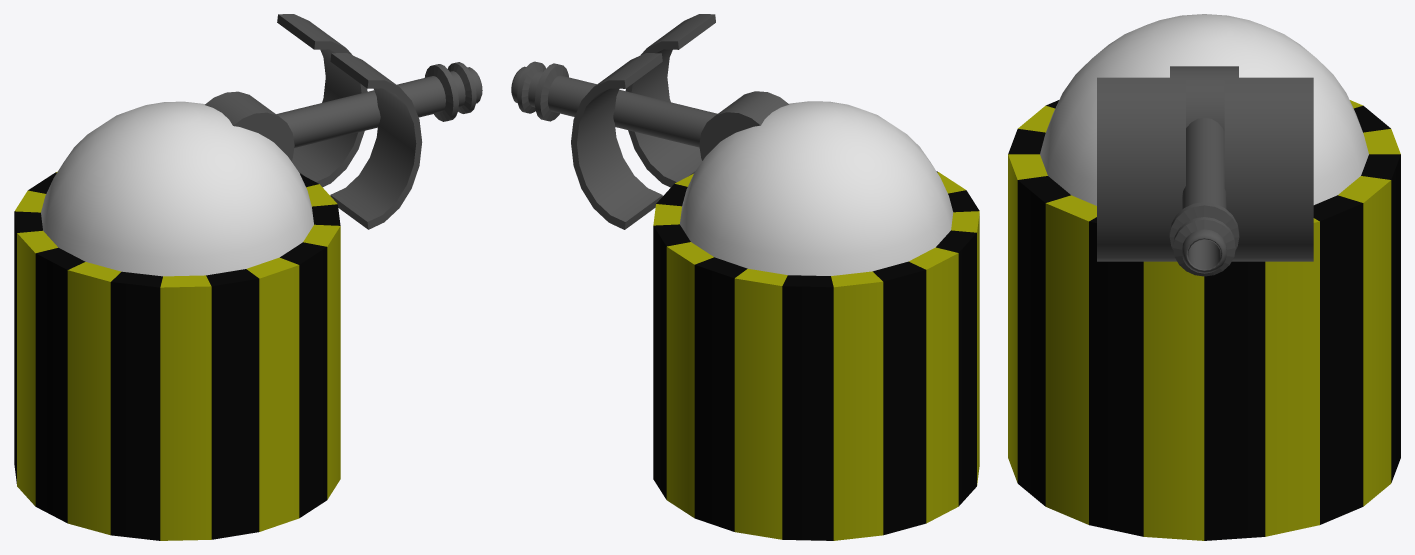
The model's file is TURRET_RAILGUN.fbx.
The picture shows the model from 3 angles, left to right: view 1: azimuth 30°, elevation 25°; view 2: azimuth 150°, elevation 25°; view 3: azimuth 270°, elevation 25°; orthographic projection. The views are drawn at different scales.
Parts seen in each view (by area): view 1: BASE, DOME, SHIELD, BARREL, PIVOT; view 2: BASE, DOME, SHIELD, BARREL, PIVOT; view 3: BASE, SHIELD, DOME, BARREL, PIVOT.
Boxes of the visible parts, x1,y1,x2,y2 form: BASE: (14, 171, 340, 540); DOME: (41, 101, 313, 276); SHIELD: (277, 14, 422, 229); BARREL: (276, 62, 482, 147); PIVOT: (205, 91, 294, 161); BASE: (653, 171, 979, 540); DOME: (680, 101, 953, 275); SHIELD: (571, 14, 715, 229); BARREL: (511, 61, 717, 147); PIVOT: (699, 91, 789, 160); BASE: (1008, 100, 1400, 540); SHIELD: (1097, 77, 1313, 261); DOME: (1040, 14, 1368, 205); BARREL: (1169, 117, 1239, 276); PIVOT: (1170, 66, 1238, 130).
Bounding box in the file's own units: 25.14 × 21.26 × 16.25.
